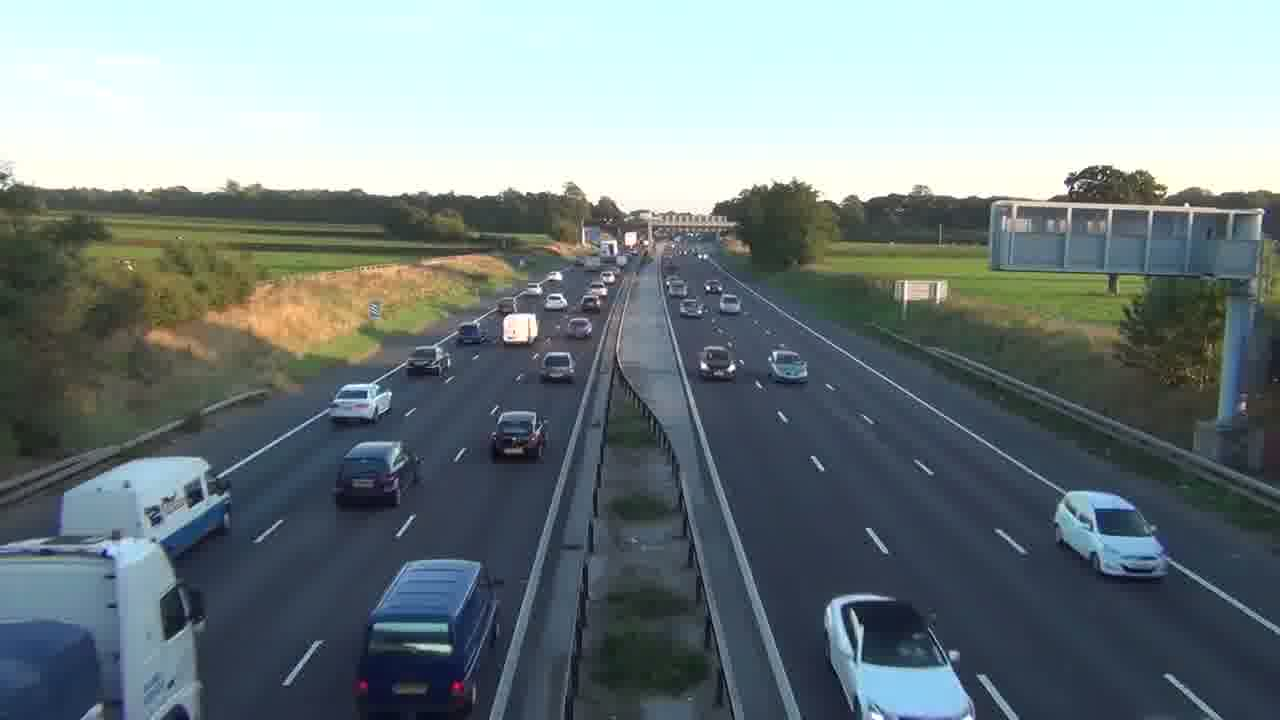car: (823, 593, 976, 719), (1053, 489, 1170, 581), (333, 439, 421, 507), (490, 409, 549, 460), (329, 382, 393, 424), (767, 347, 808, 384), (697, 345, 736, 382), (541, 351, 576, 384), (719, 292, 742, 315)
truck: (1, 454, 230, 719), (352, 557, 500, 717), (59, 455, 232, 557), (501, 312, 538, 345)
